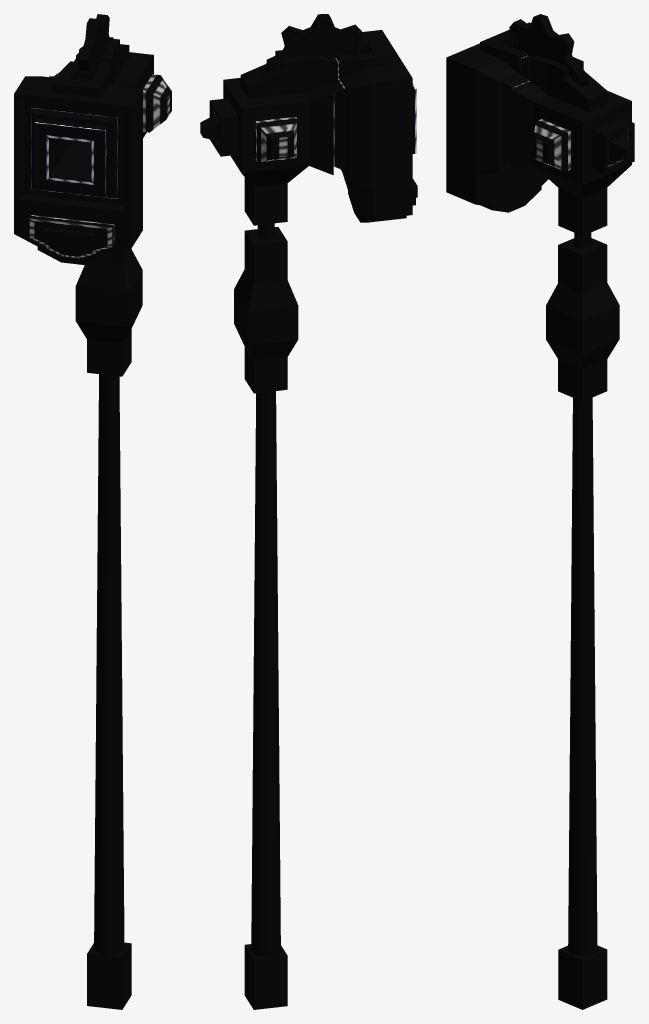
File: Dispenser_2_0.fbx
3 views of the same model, side by side, from view 1: azimuth 30°, elevation 25°; view 2: azimuth 150°, elevation 25°; view 3: azimuth 270°, elevation 25° (orthographic). The views are drawn at different scales.
Parts seen in each view (by area): view 1: Dispenser, Dispenser_Prop_0, Dispenser_Prop_1, Gear; view 2: Dispenser, Dispenser_Prop_0, Dispenser_Prop_1, Gear; view 3: Dispenser, Dispenser_Prop_0, Dispenser_Prop_1, Gear.
Part boxes in pixels (x1,y1,x2,y2): Dispenser: [14, 38, 171, 264]; Dispenser_Prop_0: [87, 374, 131, 1009]; Dispenser_Prop_1: [75, 247, 142, 376]; Gear: [77, 14, 113, 81]; Dispenser: [200, 30, 417, 222]; Dispenser_Prop_0: [244, 177, 287, 1009]; Dispenser_Prop_1: [234, 227, 298, 393]; Gear: [266, 14, 364, 73]; Dispenser: [446, 22, 634, 212]; Dispenser_Prop_0: [558, 188, 607, 1009]; Dispenser_Prop_1: [546, 238, 619, 401]; Gear: [509, 14, 585, 83].
Size of the model in its own units: 1.6 by 9.08 by 1.6.
Materials: 1 (1 with a texture image).
